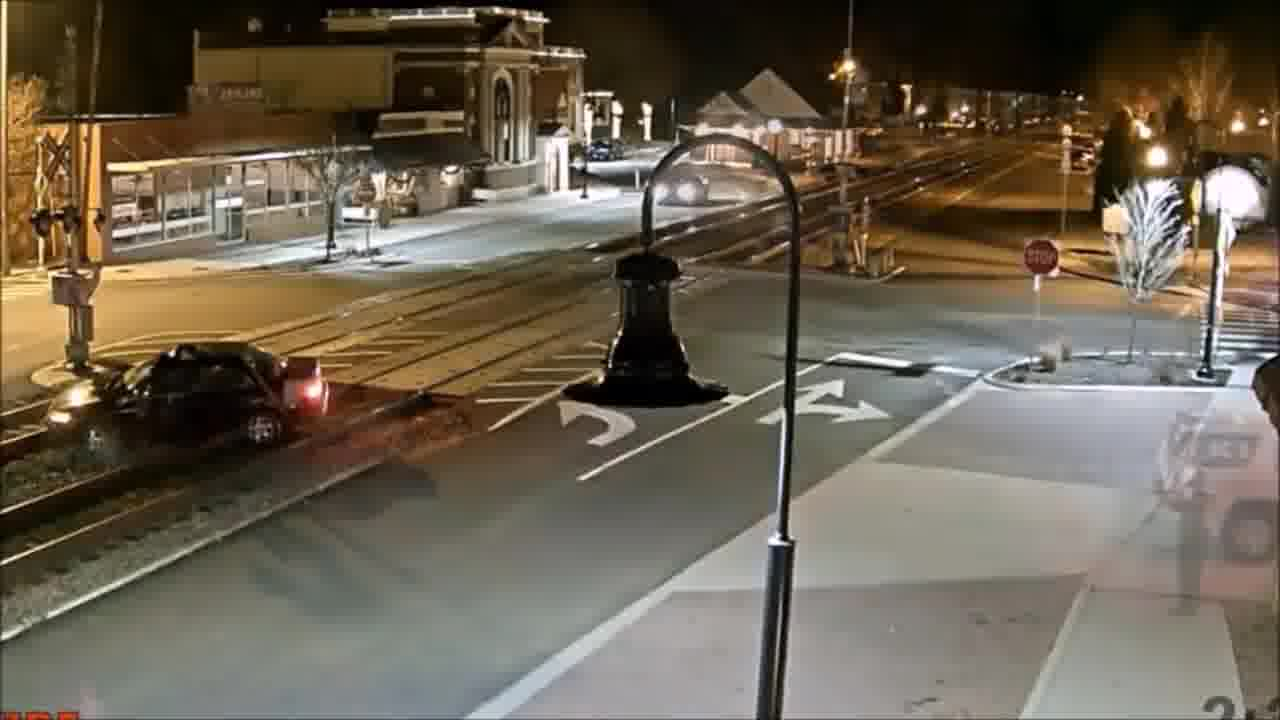crossing railway track: (40, 323, 324, 468)
